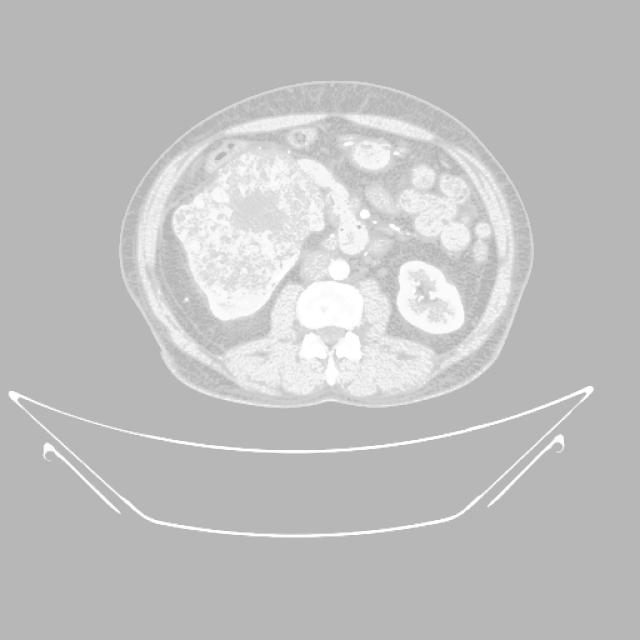TUMOR: (156, 127, 541, 347)
